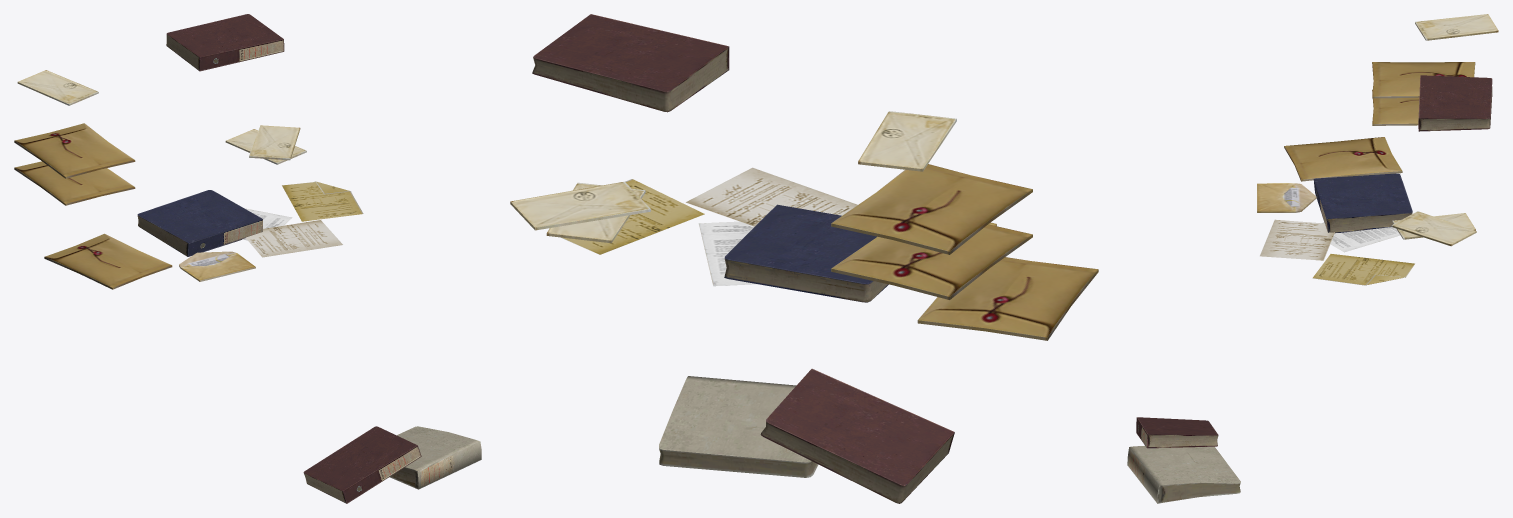
Rendered from sm39_001_deskset01a.fbx.
The picture shows the model from 3 angles, left to right: view 1: azimuth 30°, elevation 25°; view 2: azimuth 150°, elevation 25°; view 3: azimuth 270°, elevation 25°; orthographic projection. The views are drawn at different scales.
Visible parts, largest first — view 1: LOD_1_Group_0_Sub_1__sm36_008_Envelope01A_A_Mat, LOD_1_Group_2_Sub_1__sm36_007_PaperWork01A_A_Mat, LOD_1_Group_41_Sub_1__sm36_007_PaperWork01A_A_Mat, LOD_1_Group_18_Sub_1__sm36_007_PaperWork01A_A_Mat, LOD_1_Group_31_Sub_1__sm36_007_PaperWork01A_A_Mat; view 2: LOD_1_Group_0_Sub_1__sm36_008_Envelope01A_A_Mat, LOD_1_Group_41_Sub_1__sm36_007_PaperWork01A_A_Mat, LOD_1_Group_18_Sub_1__sm36_007_PaperWork01A_A_Mat, LOD_1_Group_31_Sub_1__sm36_007_PaperWork01A_A_Mat, LOD_1_Group_2_Sub_1__sm36_007_PaperWork01A_A_Mat; view 3: LOD_1_Group_0_Sub_1__sm36_008_Envelope01A_A_Mat, LOD_1_Group_31_Sub_1__sm36_007_PaperWork01A_A_Mat, LOD_1_Group_2_Sub_1__sm36_007_PaperWork01A_A_Mat, LOD_1_Group_18_Sub_1__sm36_007_PaperWork01A_A_Mat, LOD_1_Group_41_Sub_1__sm36_007_PaperWork01A_A_Mat.
Boxes of the visible parts, x1,y1,x2,y2 form: LOD_1_Group_0_Sub_1__sm36_008_Envelope01A_A_Mat: (14,70,363,289); LOD_1_Group_2_Sub_1__sm36_007_PaperWork01A_A_Mat: (137,190,262,256); LOD_1_Group_41_Sub_1__sm36_007_PaperWork01A_A_Mat: (303,426,421,503); LOD_1_Group_18_Sub_1__sm36_007_PaperWork01A_A_Mat: (166,14,284,71); LOD_1_Group_31_Sub_1__sm36_007_PaperWork01A_A_Mat: (389,426,481,489); LOD_1_Group_0_Sub_1__sm36_008_Envelope01A_A_Mat: (510,111,1098,340); LOD_1_Group_41_Sub_1__sm36_007_PaperWork01A_A_Mat: (760,368,954,503); LOD_1_Group_18_Sub_1__sm36_007_PaperWork01A_A_Mat: (532,14,729,112); LOD_1_Group_31_Sub_1__sm36_007_PaperWork01A_A_Mat: (659,376,818,477); LOD_1_Group_2_Sub_1__sm36_007_PaperWork01A_A_Mat: (724,204,888,302); LOD_1_Group_0_Sub_1__sm36_008_Envelope01A_A_Mat: (1257,14,1498,285); LOD_1_Group_31_Sub_1__sm36_007_PaperWork01A_A_Mat: (1127,446,1240,503); LOD_1_Group_2_Sub_1__sm36_007_PaperWork01A_A_Mat: (1313,173,1412,233); LOD_1_Group_18_Sub_1__sm36_007_PaperWork01A_A_Mat: (1418,75,1492,131); LOD_1_Group_41_Sub_1__sm36_007_PaperWork01A_A_Mat: (1136,417,1218,448).
Bounding box in the file's own units: 1.28 × 1.32 × 1.24.
